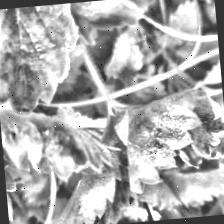Powdery Mildew Leaf: (0, 76, 124, 187), (109, 86, 224, 197), (28, 149, 133, 224), (144, 197, 204, 222)
